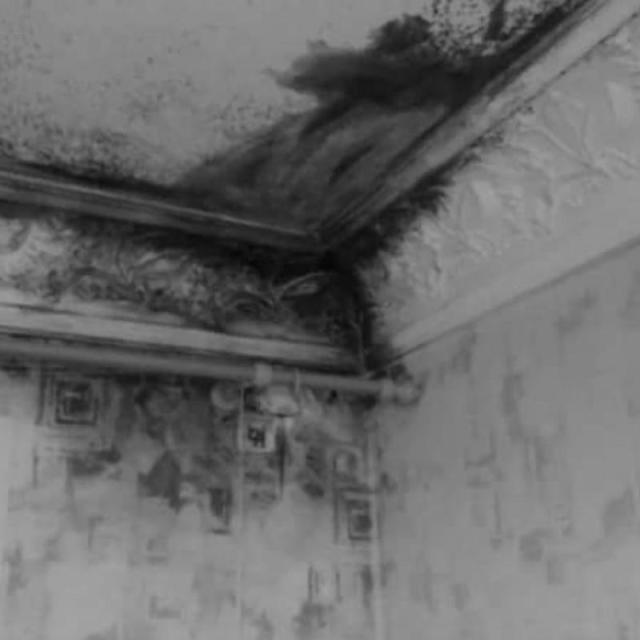stain marks: (2, 139, 375, 338), (1, 2, 202, 140), (208, 63, 467, 150), (282, 1, 560, 59)
